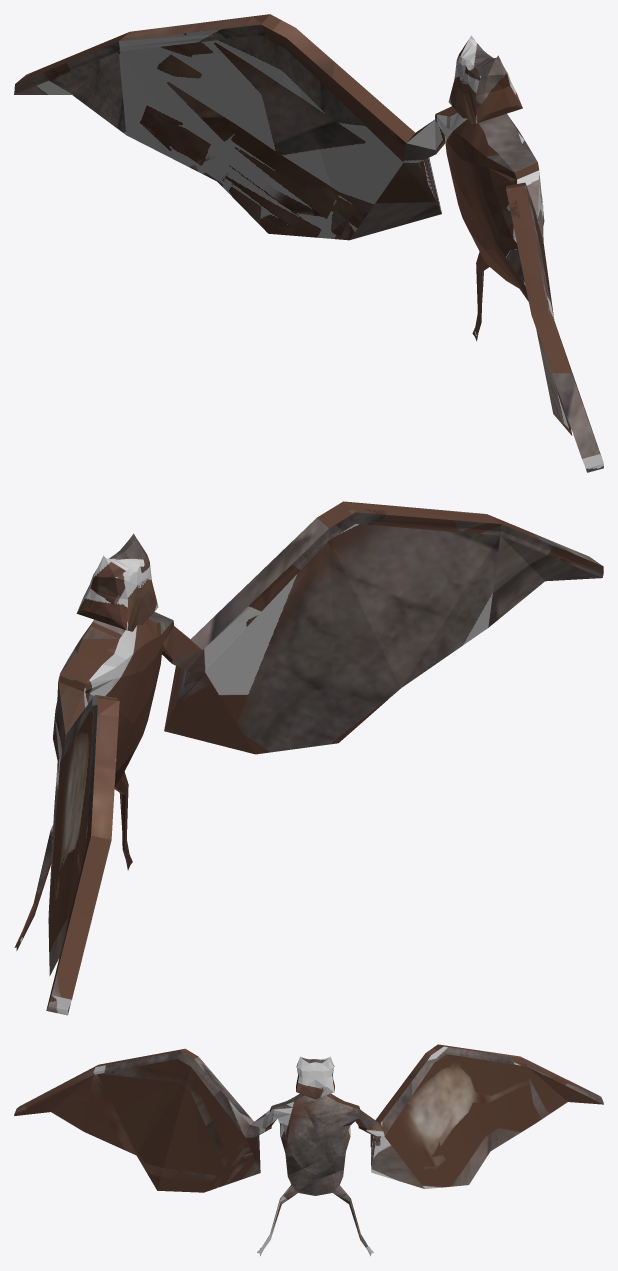
The model's file is Enemigo113.obj.
3 renders of one model, top to bottom at view 1: azimuth 30°, elevation 25°; view 2: azimuth 150°, elevation 25°; view 3: azimuth 270°, elevation 25°, orthographic. The views are drawn at different scales.
Parts seen in each view (by area): view 1: Plano; view 2: Plano; view 3: Plano.
Boxes of the visible parts, box(x1,y1,x2,y2) form: Plano: box(14, 14, 603, 472); Plano: box(14, 501, 603, 1015); Plano: box(14, 1044, 603, 1255).
Size of the model in its own units: 0.5874 by 0.7537 by 2.13.
Materials: 1 (1 with a texture image).
